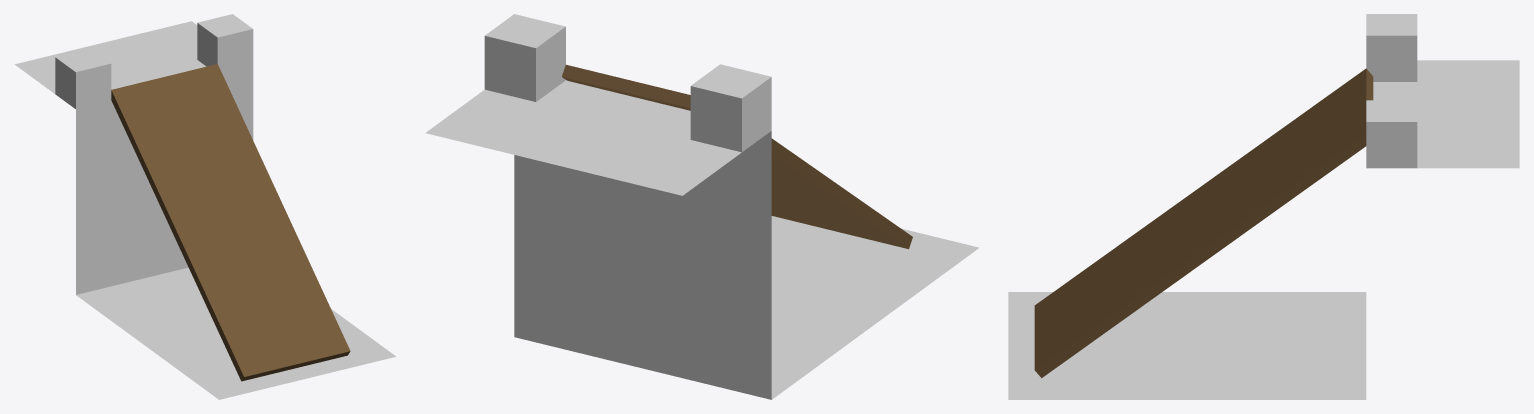
Rendered from Ramp.fbx.
3 renders of one model, left to right at view 1: azimuth 30°, elevation 25°; view 2: azimuth 150°, elevation 25°; view 3: azimuth 270°, elevation 25°, orthographic. The views are drawn at different scales.
Visible parts, largest first — view 1: Ramp; view 2: Ramp; view 3: Ramp.
Part boxes in pixels (box(x1,y1,x2,y2)): Ramp: box(14, 14, 395, 399); Ramp: box(425, 14, 979, 399); Ramp: box(1008, 14, 1519, 399).
Size of the model in its own units: 1 by 1.2 by 2.
